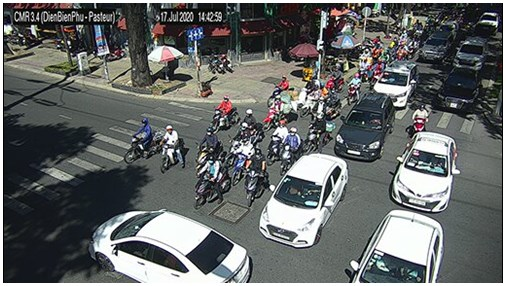xe_hoi: (88, 209, 251, 283), (259, 153, 349, 247), (349, 209, 444, 284), (335, 92, 395, 161), (435, 67, 481, 111), (454, 36, 488, 71), (419, 32, 453, 62), (476, 11, 500, 35)
xe_may: (194, 156, 231, 209), (124, 116, 161, 163), (245, 149, 269, 206), (302, 112, 332, 154), (159, 125, 185, 171), (196, 127, 226, 164), (209, 96, 239, 133), (280, 127, 303, 174), (232, 137, 254, 185), (227, 122, 251, 166), (261, 95, 289, 132), (300, 80, 326, 117), (267, 120, 287, 166), (267, 75, 293, 106), (242, 109, 264, 142), (411, 103, 428, 134), (346, 73, 361, 105), (326, 66, 345, 91), (325, 88, 340, 118), (396, 43, 406, 61)
xe_taxi: (391, 131, 458, 213), (374, 60, 418, 108)
